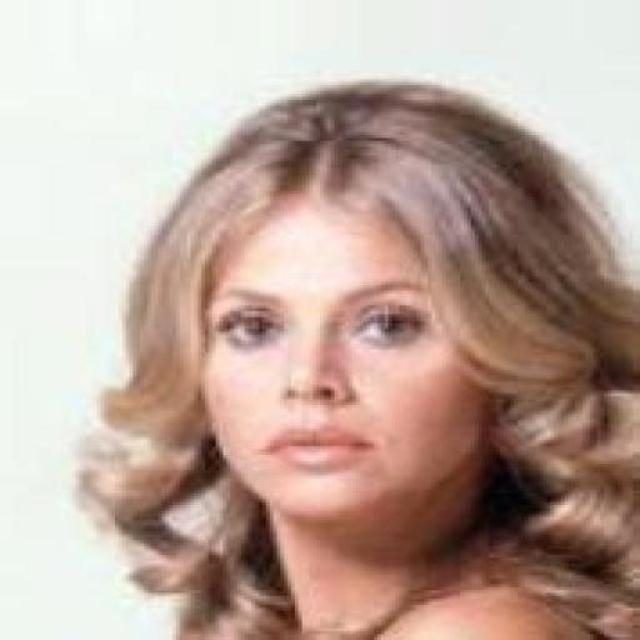bareface: (172, 163, 503, 502)
